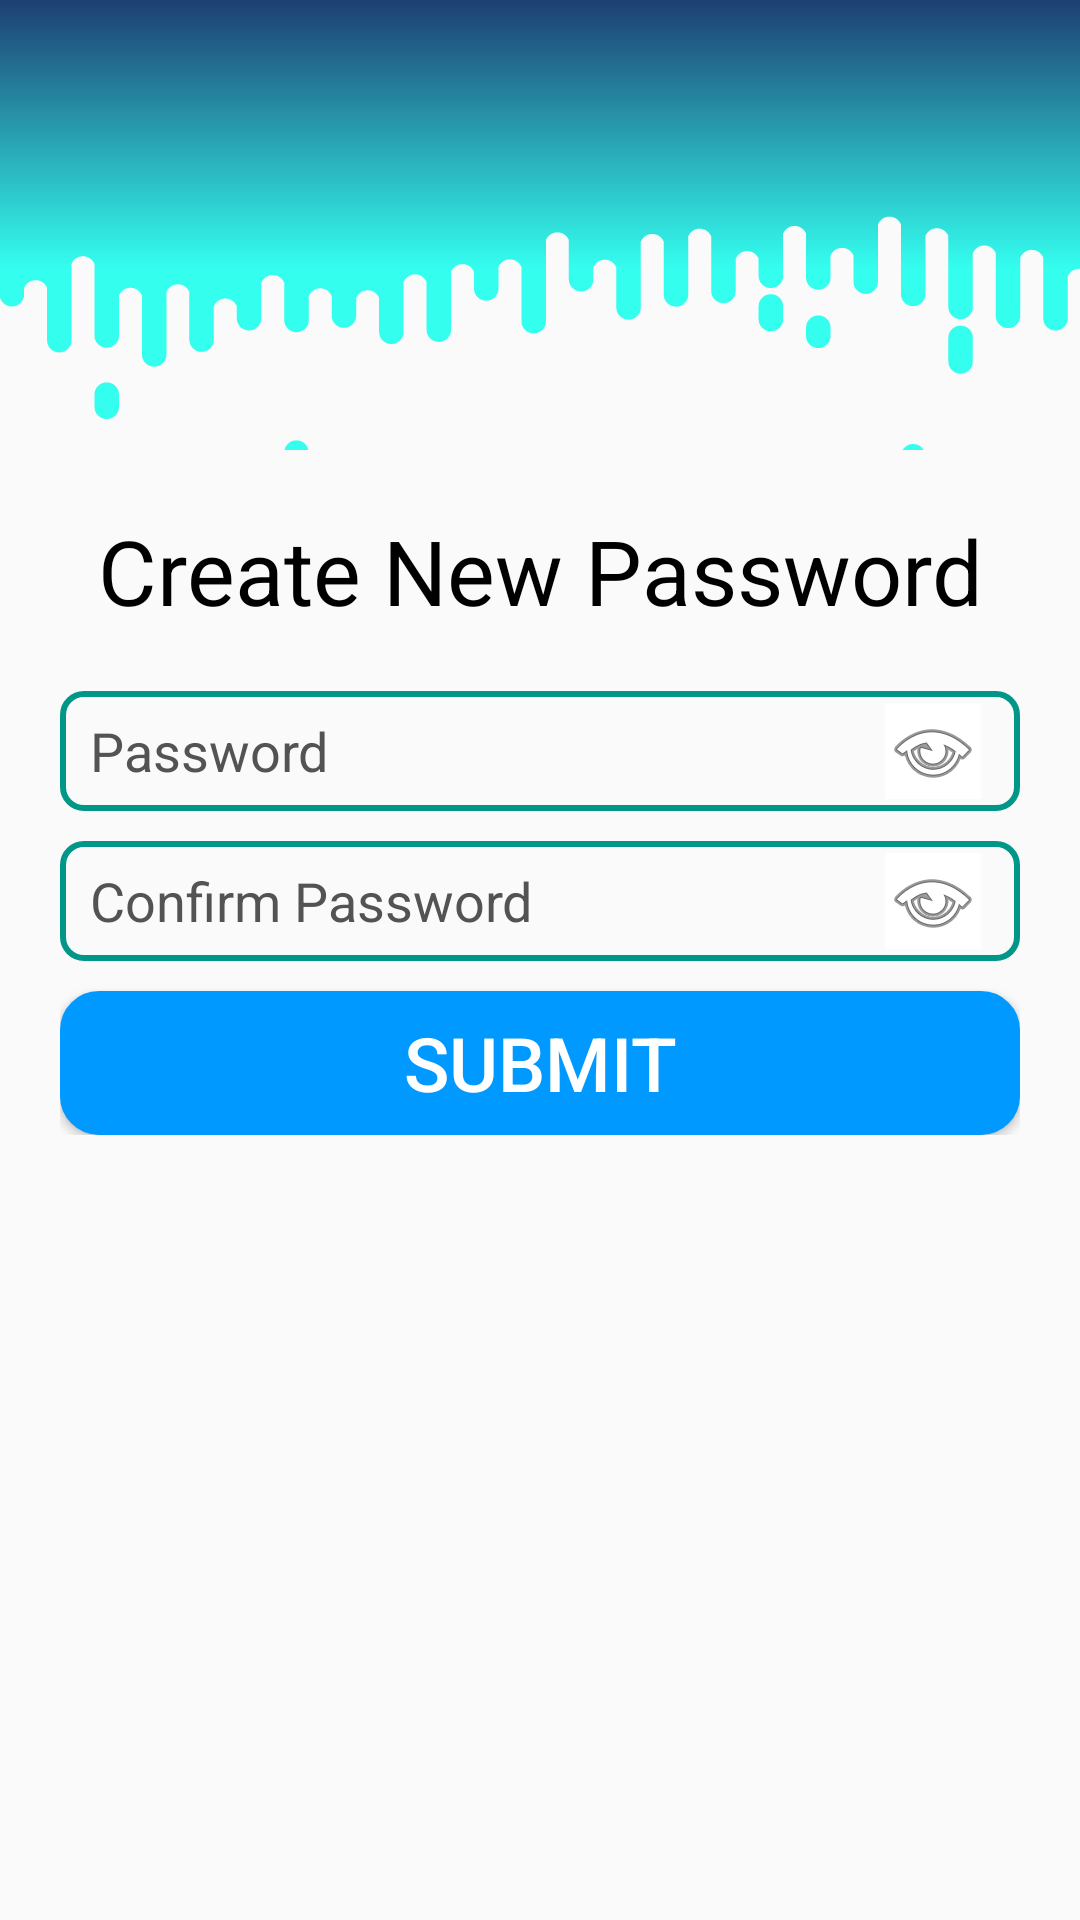

Named icons in this screenshot (1080×1920) and their centers, (x=x, y=y):
view: (x=933, y=753), (x=933, y=903)
